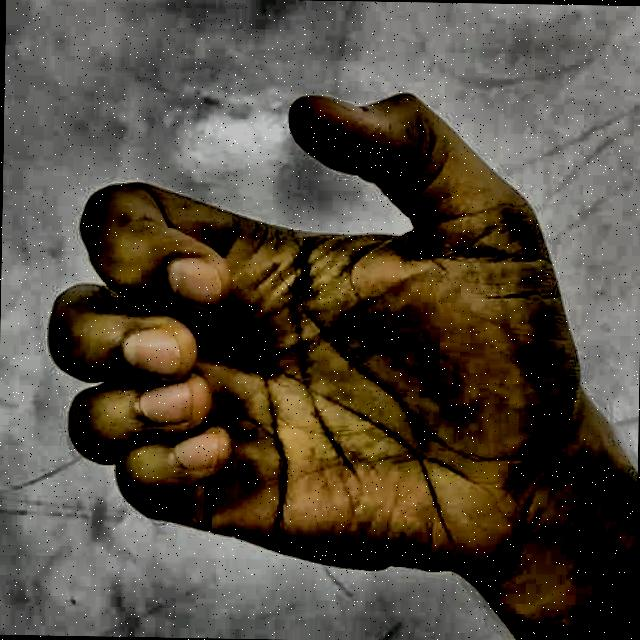Dho: (35, 56, 600, 640)
